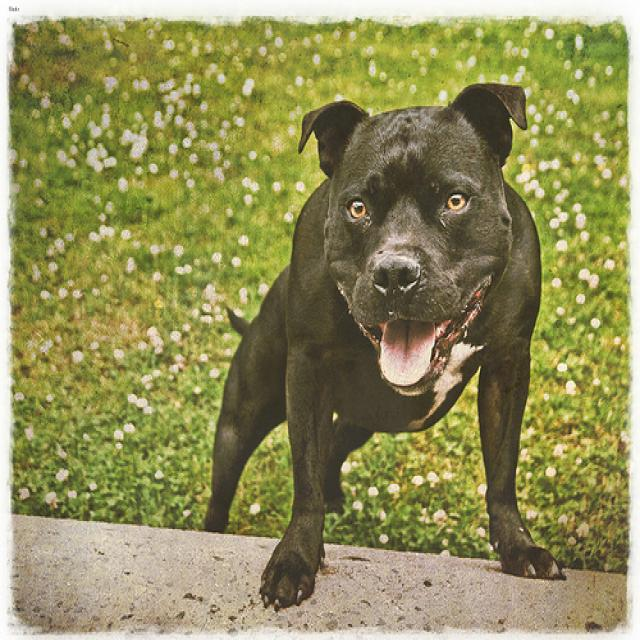dog-staffordshire_bull_terrier: (191, 71, 571, 616)
